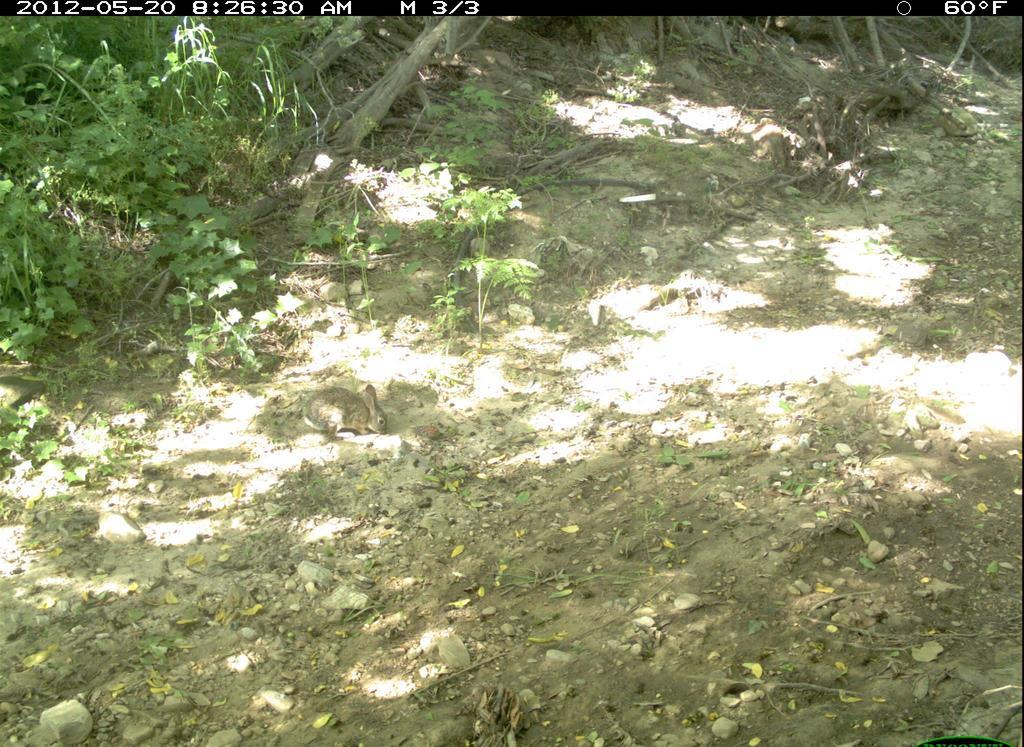rabbit: (296, 374, 397, 449)
